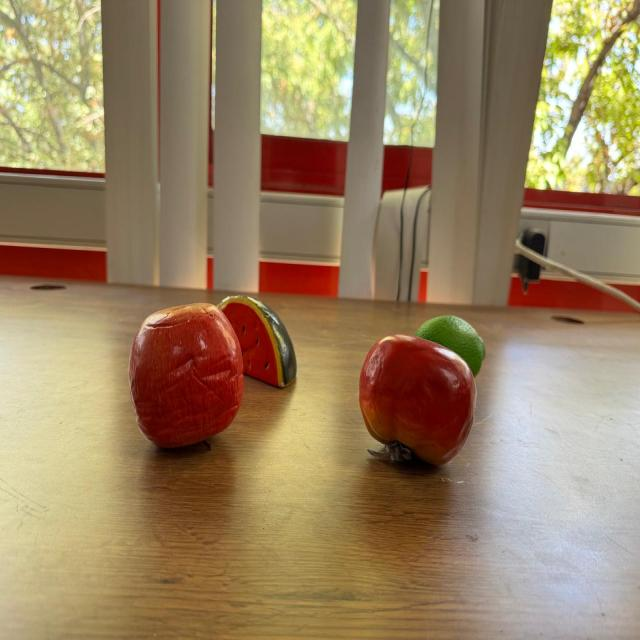apple: (130, 302, 244, 449)
lemon: (412, 315, 486, 380)
tomato: (358, 334, 477, 466)
watermelon: (216, 295, 297, 388)
